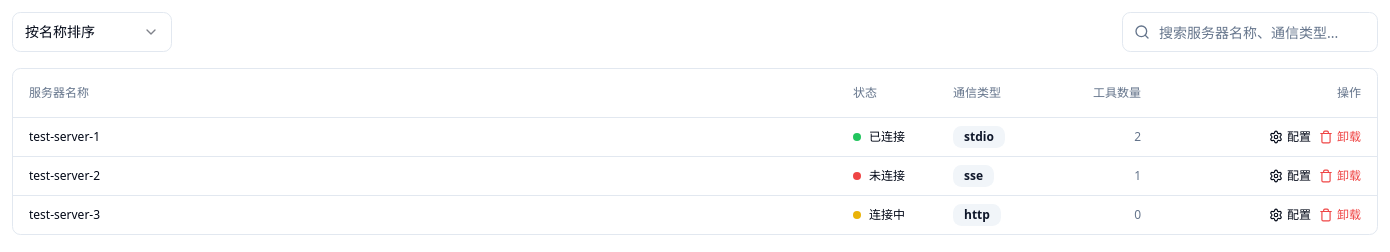
Test: McpServerTable › 搜索功能 › 清除搜索应该恢复完整列表
Type "server-1" into the field with placeholder "搜索服务器名称、通信类型...".
click(1250, 32); type("server-1")  # box [1122, 12, 1378, 52]
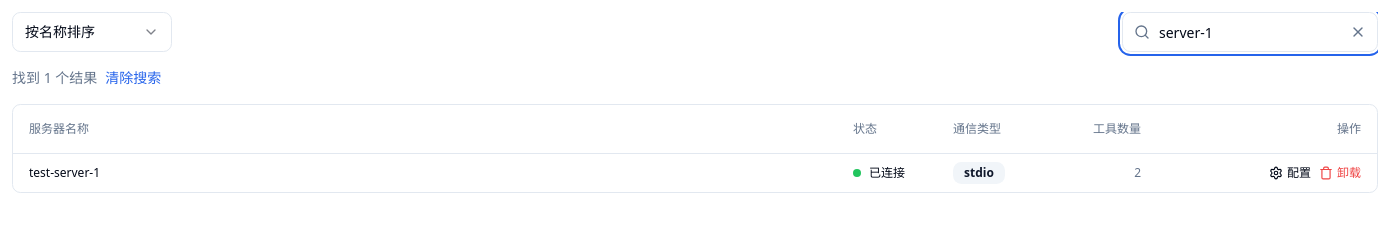
Expected: the text "找到 1 个结果 清除搜索" is shown, [12, 68, 161, 88]
Click the button "清除搜索".
click(133, 78)  # box [105, 68, 161, 88]
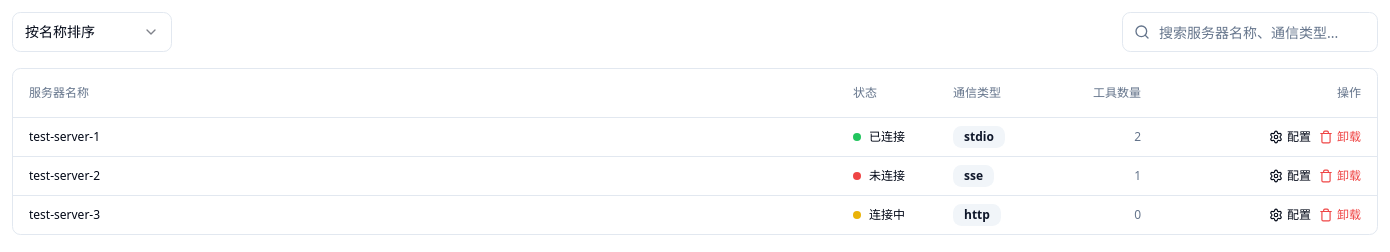
Expected: the field with placeholder "搜索服务器名称、通信类型..." is empty, [1122, 12, 1378, 52]
Expected: the text "test-server-2" is shown, [13, 156, 837, 196]
